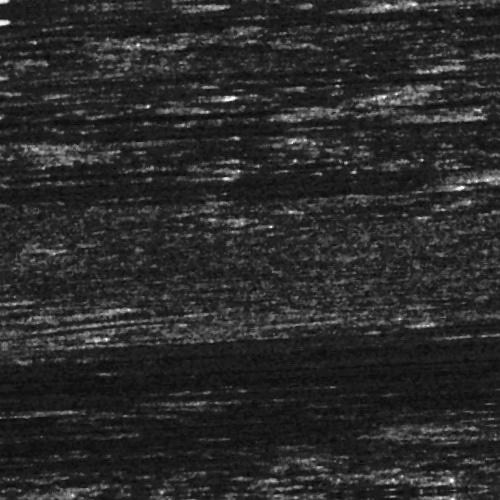object: (195, 101, 392, 118), (422, 171, 500, 192), (318, 3, 411, 14), (404, 117, 497, 128), (177, 89, 270, 98), (415, 189, 498, 196), (404, 71, 477, 78)
shadow: (183, 171, 500, 192), (38, 101, 293, 118), (39, 3, 364, 14), (133, 189, 457, 196), (162, 17, 500, 22), (51, 89, 223, 98), (368, 117, 451, 128), (358, 71, 440, 78), (481, 385, 500, 398)
